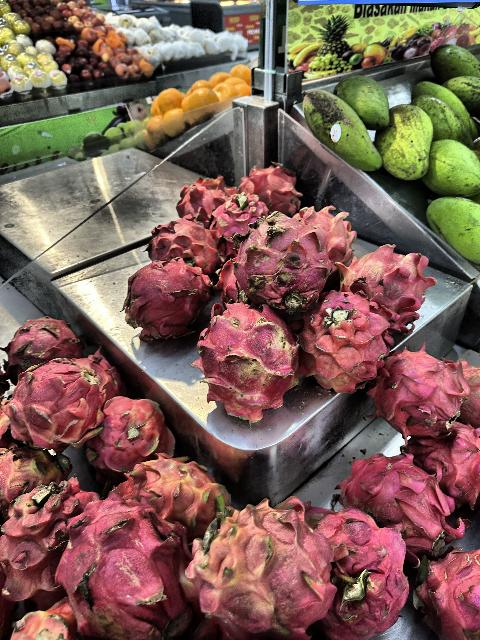buah-naga-belum-matang: (186, 498, 341, 640), (192, 302, 304, 414), (8, 484, 80, 608), (122, 453, 228, 529), (344, 240, 440, 318), (0, 440, 84, 502), (302, 206, 366, 270)
buah-naga-matang: (66, 498, 190, 640), (342, 441, 460, 547), (324, 504, 414, 640), (232, 214, 334, 312), (1, 361, 111, 447), (308, 296, 394, 390), (373, 348, 457, 428), (115, 268, 211, 334), (98, 400, 172, 480), (424, 541, 480, 639), (0, 317, 88, 375), (414, 422, 480, 492), (240, 163, 306, 207), (161, 220, 219, 270), (178, 176, 226, 214), (213, 200, 257, 236)
